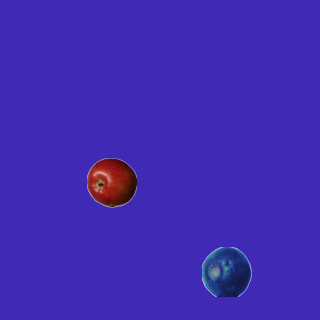Apple Braeburn: (86, 157, 136, 207)
Huckleberry: (201, 246, 251, 296)
